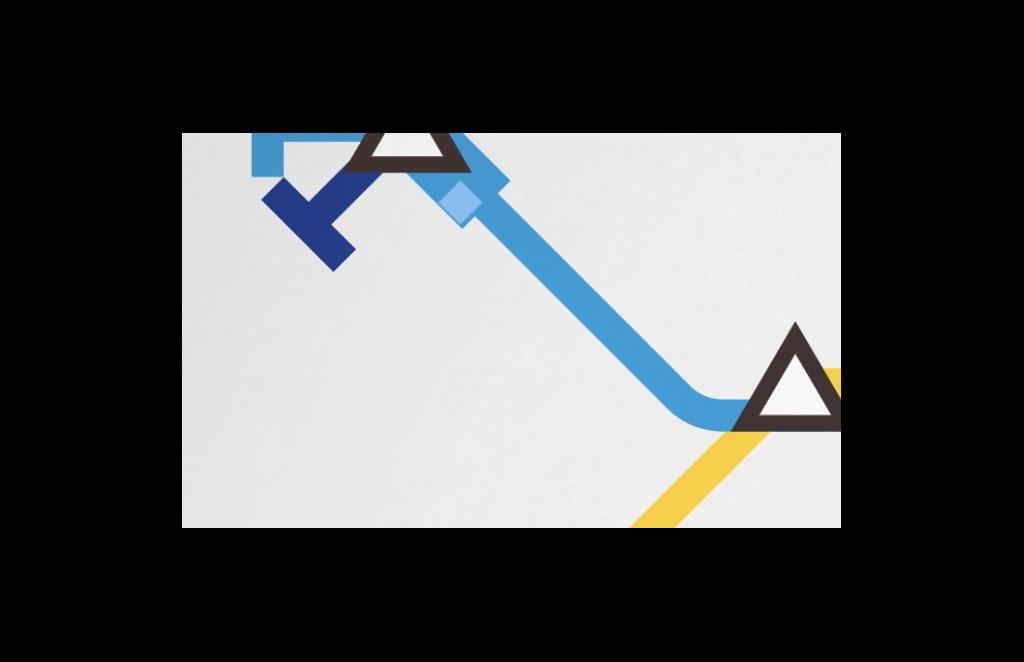connected_station: (718, 318, 842, 449), (344, 134, 472, 180)
line_endpoint: (263, 183, 371, 275), (238, 134, 306, 186)
train: (404, 140, 528, 232)
